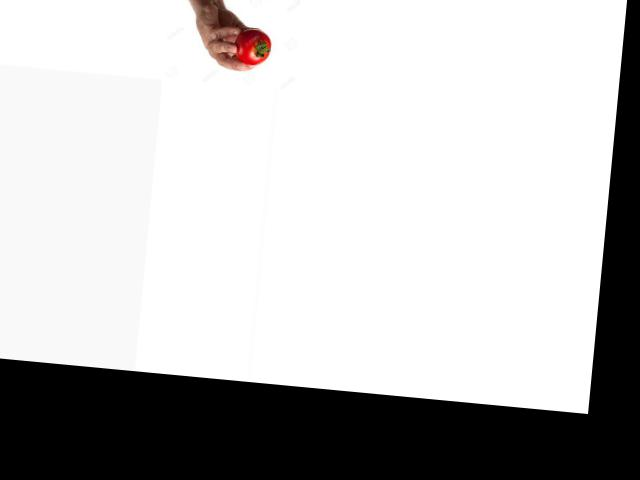tomato: (233, 27, 273, 66)
